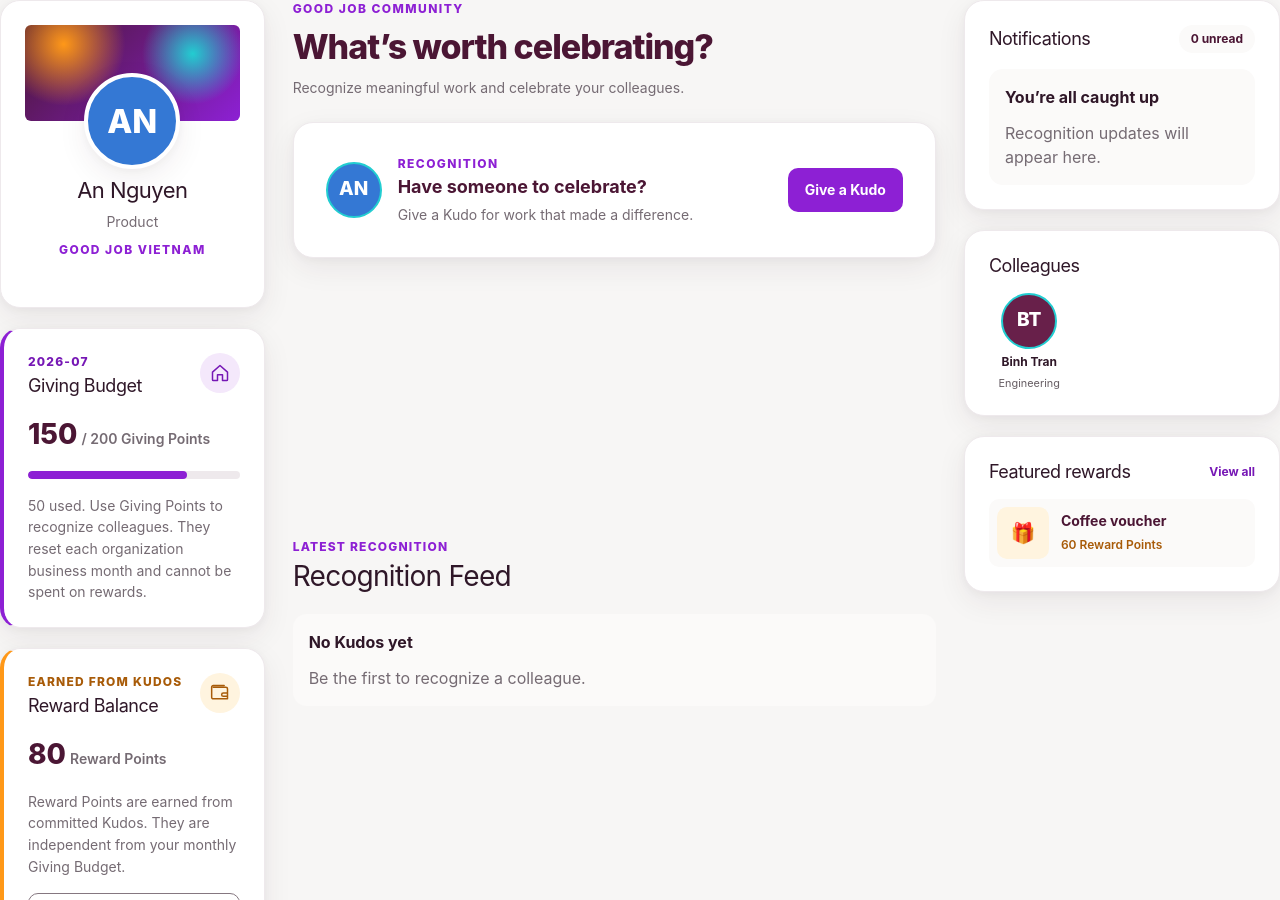
Test: VR-3 Dashboard › uses a compact accessible composer and preserves its draft when collapsed
The image size is (1280, 900).
Expected: the field labelled "Find a colleague" is not shown
Expected: the text "No Kudos yet" is shown, top-left (309, 630), bottom-right (413, 654)
Click the button "Give a Kudo": (845, 190) top-left (788, 168), bottom-right (903, 212)
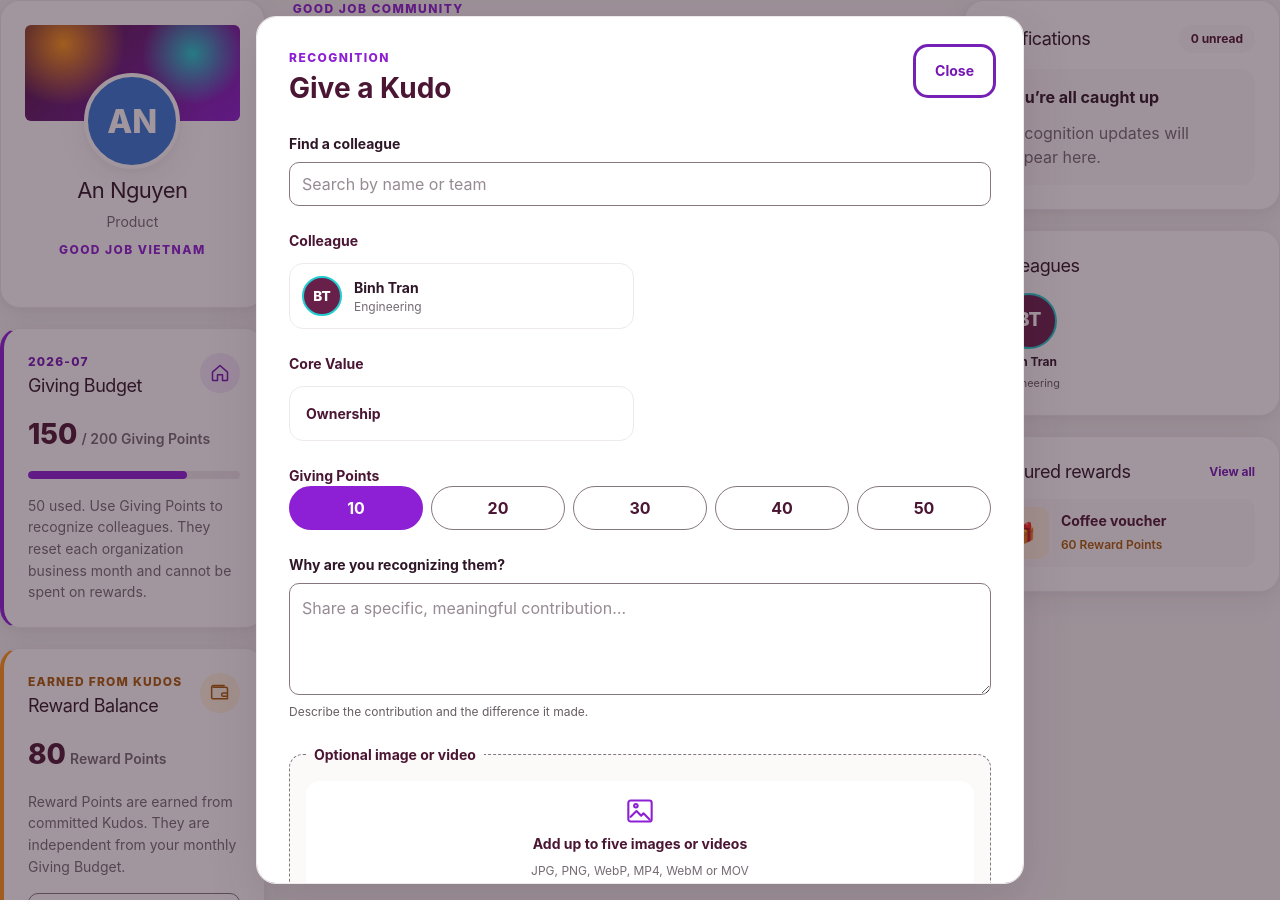
Expected: the dialog "Give a Kudo" is shown, top-left (256, 16), bottom-right (1024, 884)
In the field labelled "Find a colleague": (640, 184) top-left (289, 162), bottom-right (991, 206), type "Binh"
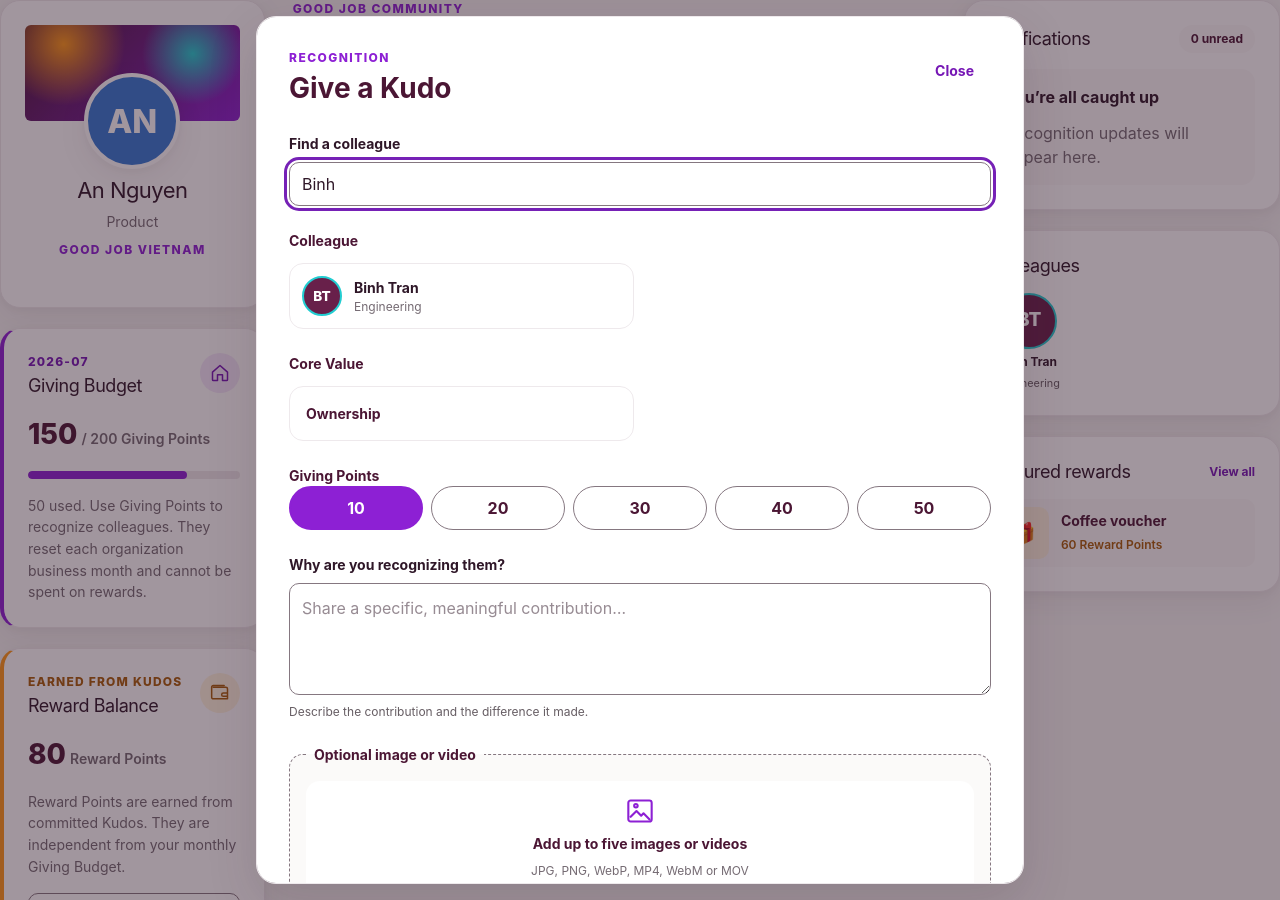
Click the button "Close": (955, 71) top-left (918, 49), bottom-right (991, 93)
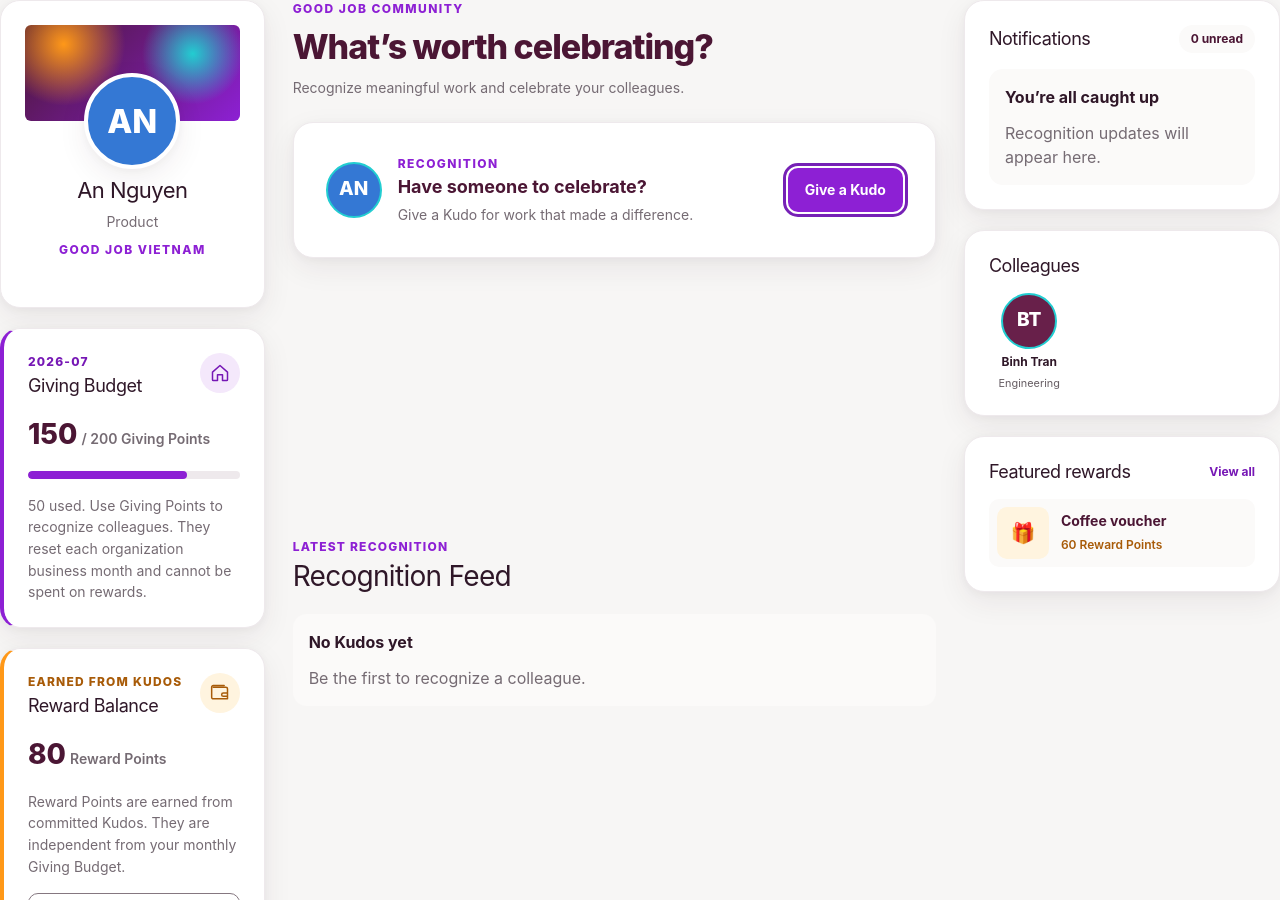
Click the button "Give a Kudo": (845, 190) top-left (788, 168), bottom-right (903, 212)
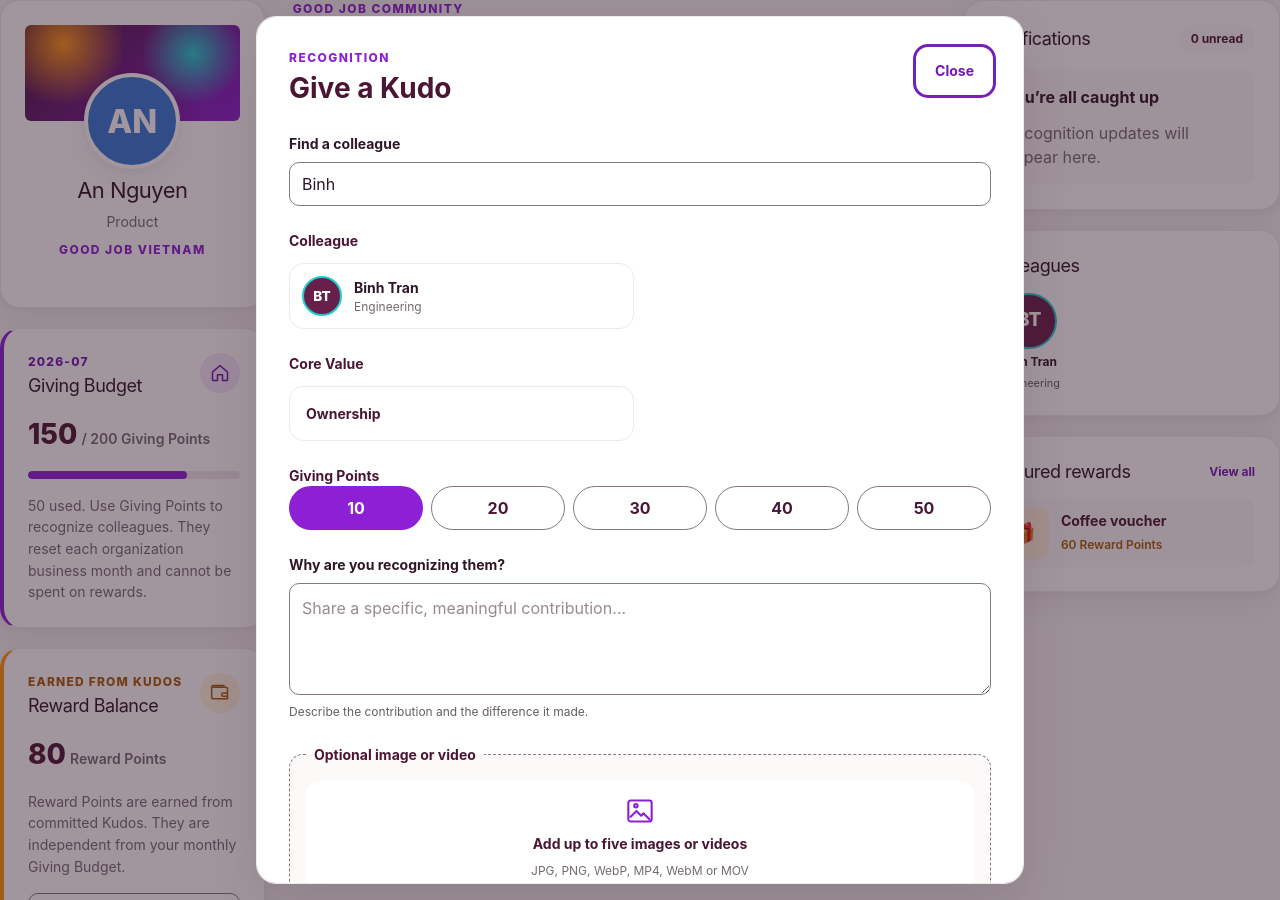
Expected: the dialog "Give a Kudo" is shown, top-left (256, 16), bottom-right (1024, 884)
Expected: the field labelled "Find a colleague" holds "Binh", top-left (289, 162), bottom-right (991, 206)
